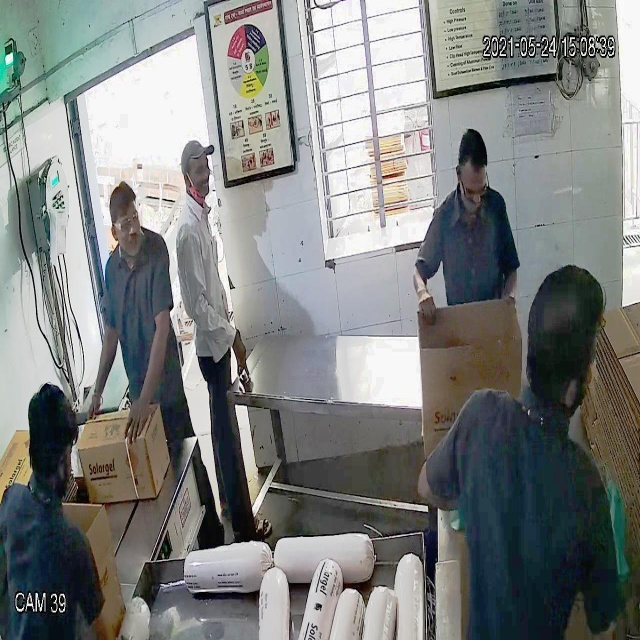Gafas: (111, 206, 144, 237)
Sin_gafas: (457, 168, 493, 204), (180, 154, 214, 185)
